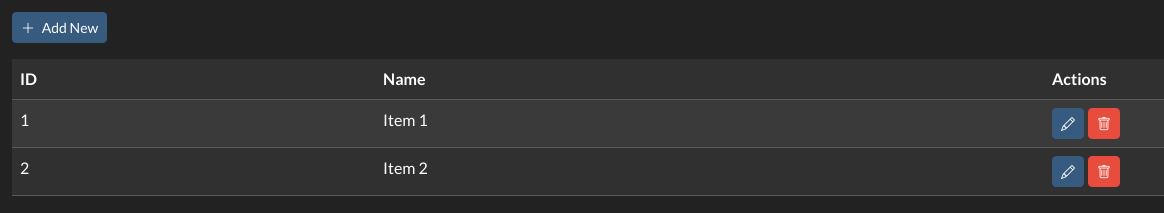
DataTable › clicking edit button enters edit mode
Click the button titled "Edit" in the row of "Item 1": coordinates (1068, 124) [1052, 108, 1084, 139]
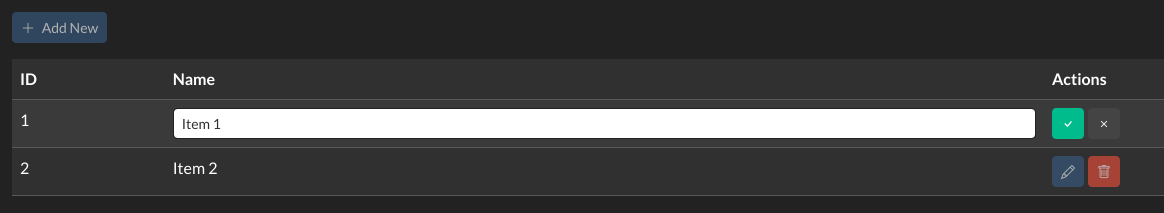
Expected: the field is shown, [173, 108, 1036, 139]
